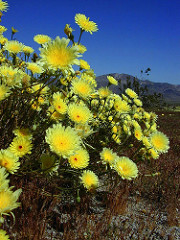dandelion: (41, 120, 84, 162), (37, 38, 78, 74), (72, 7, 100, 42), (110, 152, 141, 183)
